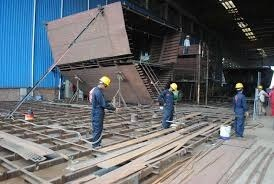helmet: (97, 75, 112, 88), (169, 81, 179, 93), (235, 81, 244, 90)
person with partial safety: (90, 75, 113, 149), (160, 81, 180, 130), (232, 80, 248, 137)
